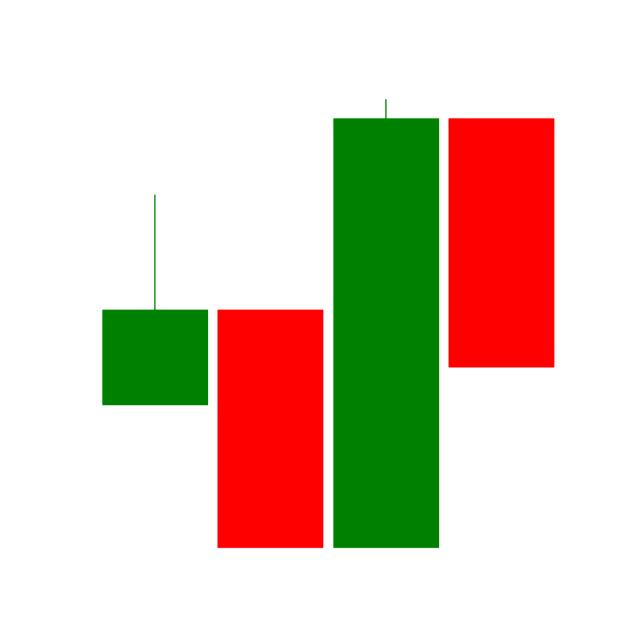Bearish Marubozu: (446, 117, 554, 369), (218, 308, 324, 548)
